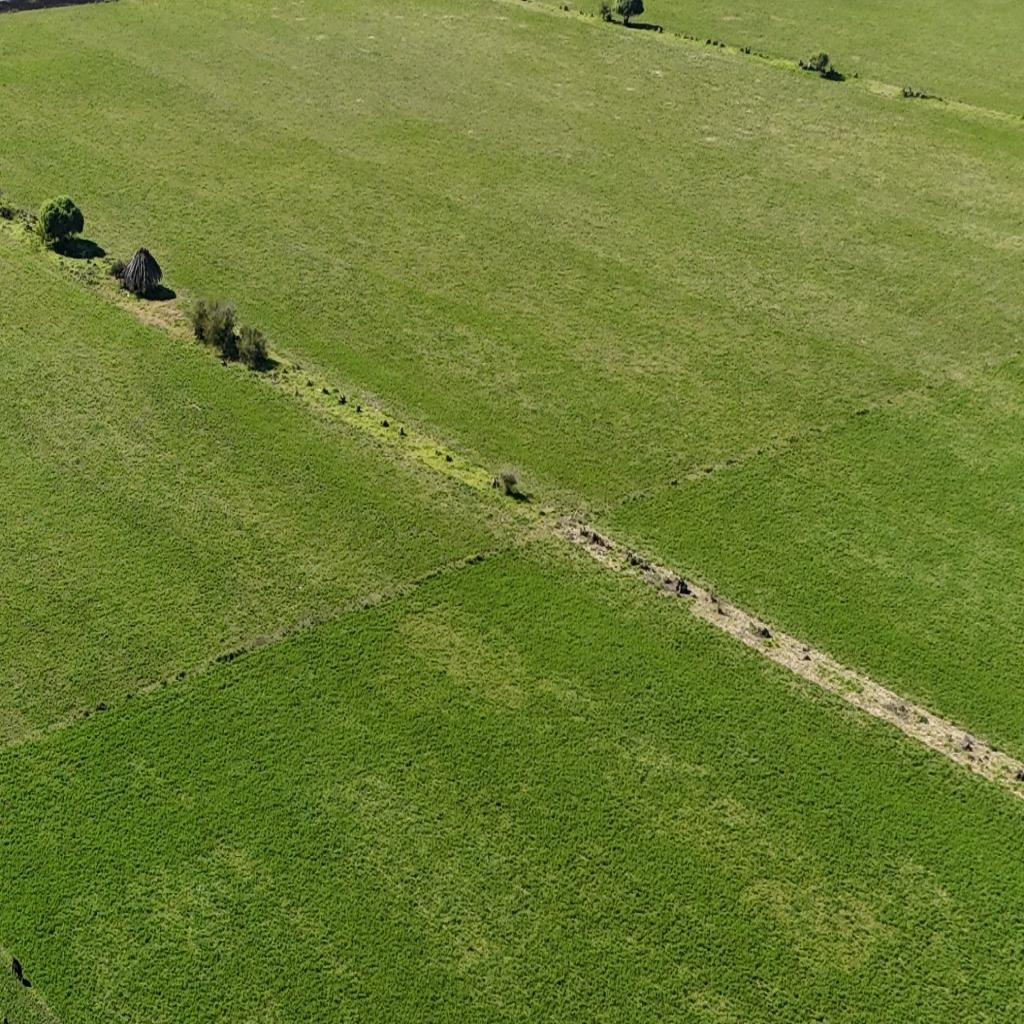cow: (10, 956, 24, 982)
